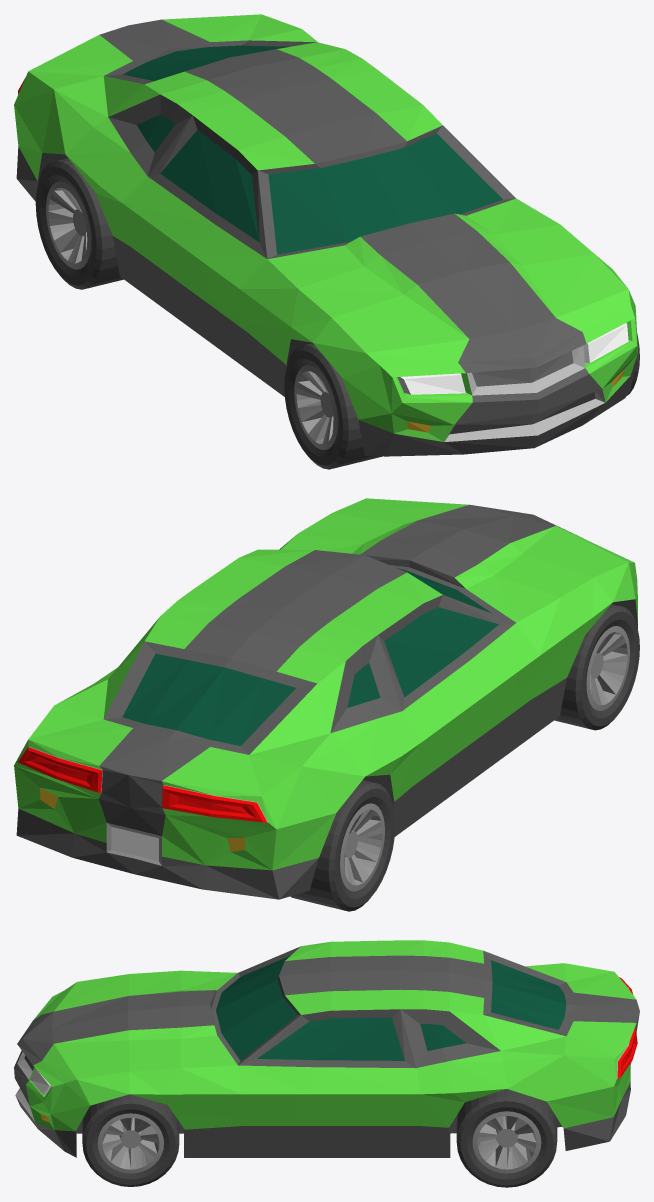
Rendered from Sporty.glb.
3 views of the same model, one above another, from view 1: azimuth 30°, elevation 25°; view 2: azimuth 150°, elevation 25°; view 3: azimuth 270°, elevation 25° (orthographic). The views are drawn at different scales.
Visible parts, largest first — view 1: CarBody, WRR, WFR; view 2: CarBody, WRR, WFR, TailLight; view 3: CarBody, WRL, WFL, TailLight.
Part boxes in pixels (x1,y1,x2,y2): CarBody: (14, 14, 637, 456); WRR: (35, 158, 123, 289); WFR: (284, 343, 382, 469); CarBody: (14, 498, 637, 899); WRR: (290, 780, 395, 911); WFR: (554, 604, 639, 730); TailLight: (18, 747, 267, 822); CarBody: (14, 940, 639, 1157); WRL: (456, 1089, 557, 1187); WFL: (82, 1094, 179, 1186); TailLight: (617, 977, 637, 1078).
Size of the model in its own units: 3.59 by 2.42 by 8.45.
